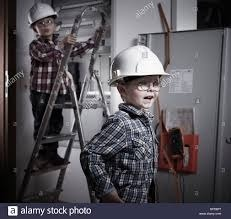helmet: (106, 42, 172, 87), (26, 1, 60, 30)
person with partial safety: (84, 43, 172, 203), (23, 1, 75, 167)
